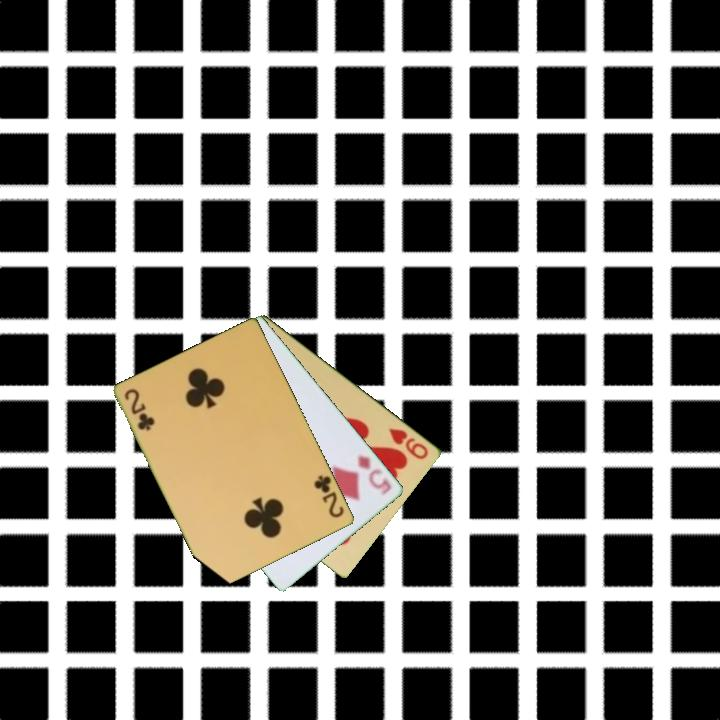2c: (311, 471, 347, 521), (121, 385, 157, 434)
5d: (354, 451, 395, 499)
9h: (386, 424, 432, 462)
